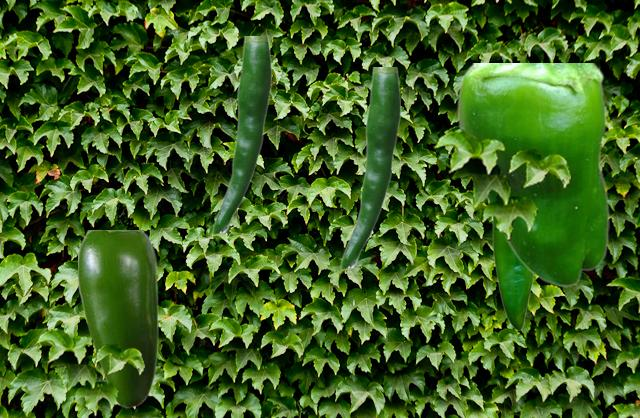green_chili: (456, 63, 608, 286), (78, 230, 157, 407), (339, 67, 399, 269), (211, 36, 270, 234), (492, 218, 534, 329)
